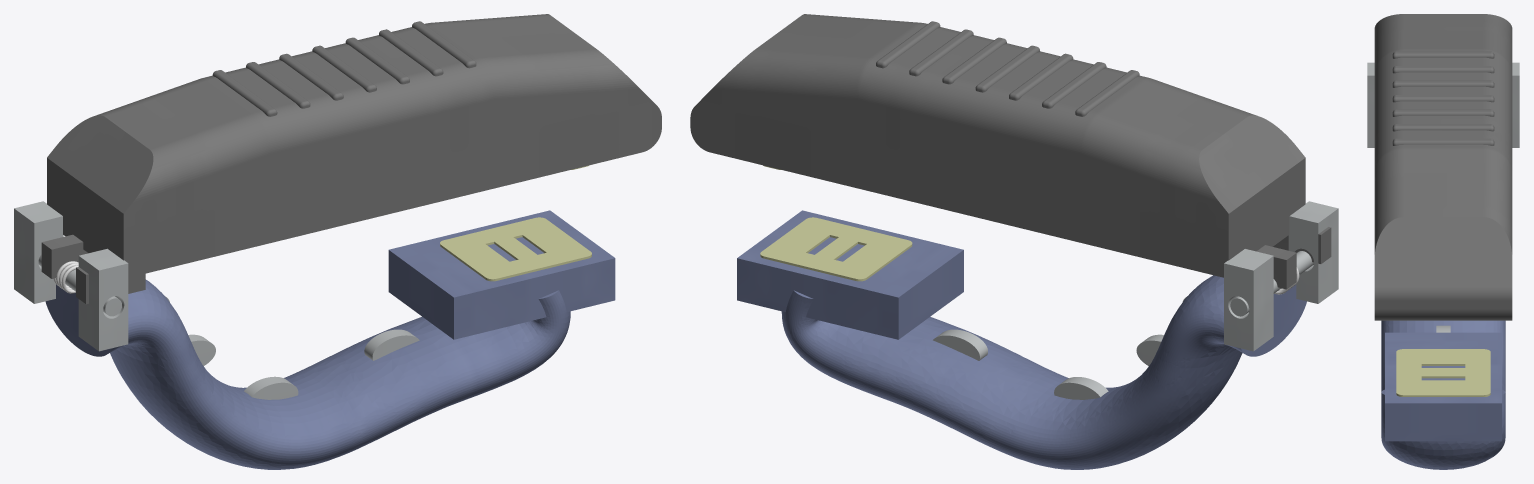
File: Handtools_Stapler__0215.glb
The picture shows the model from 3 angles, left to right: view 1: azimuth 30°, elevation 25°; view 2: azimuth 150°, elevation 25°; view 3: azimuth 270°, elevation 25°; orthographic projection. The views are drawn at different scales.
Visible parts, largest first — view 1: top_arm::arm_shell, base::base_grip, base::hinge_knuckles, base::anvil_plate, base::grip_ridge_3, base::grip_ridge_2, top_arm::grip_rib_0, top_arm::grip_rib_3, top_arm::grip_rib_6, top_arm::grip_rib_2, top_arm::grip_rib_5, top_arm::grip_rib_4 (+1 smaller); view 2: top_arm::arm_shell, base::base_grip, base::hinge_knuckles, base::anvil_plate, base::grip_ridge_3, base::grip_ridge_2, top_arm::grip_rib_4, top_arm::grip_rib_5, top_arm::grip_rib_1, top_arm::grip_rib_3, top_arm::grip_rib_2, top_arm::grip_rib_6 (+2 smaller); view 3: top_arm::arm_shell, base::base_grip, base::anvil_plate, base::hinge_knuckles, top_arm::grip_rib_2, top_arm::grip_rib_4, top_arm::grip_rib_6, top_arm::grip_rib_0, top_arm::grip_rib_1, top_arm::grip_rib_3, top_arm::grip_rib_5.
Boxes of the visible parts, left/top/right/bottom form: top_arm::arm_shell: left=41, top=14, right=661, bottom=304; base::base_grip: left=45, top=210, right=615, bottom=469; base::hinge_knuckles: left=14, top=201, right=128, bottom=351; base::anvil_plate: left=440, top=217, right=591, bottom=281; base::grip_ridge_3: left=364, top=329, right=419, bottom=360; base::grip_ridge_2: left=244, top=376, right=298, bottom=399; top_arm::grip_rib_0: left=212, top=70, right=277, bottom=116; top_arm::grip_rib_3: left=312, top=45, right=376, bottom=92; top_arm::grip_rib_6: left=412, top=21, right=476, bottom=68; top_arm::grip_rib_2: left=279, top=53, right=343, bottom=100; top_arm::grip_rib_5: left=379, top=29, right=443, bottom=76; top_arm::grip_rib_4: left=345, top=37, right=409, bottom=84; top_arm::arm_shell: left=690, top=14, right=1331, bottom=289; base::base_grip: left=737, top=210, right=1306, bottom=469; base::hinge_knuckles: left=1224, top=201, right=1338, bottom=351; base::anvil_plate: left=760, top=217, right=912, bottom=281; base::grip_ridge_3: left=933, top=329, right=987, bottom=360; base::grip_ridge_2: left=1054, top=377, right=1108, bottom=399; top_arm::grip_rib_4: left=942, top=37, right=1006, bottom=84; top_arm::grip_rib_5: left=909, top=29, right=973, bottom=76; top_arm::grip_rib_1: left=1042, top=62, right=1106, bottom=108; top_arm::grip_rib_3: left=975, top=45, right=1039, bottom=92; top_arm::grip_rib_2: left=1009, top=53, right=1073, bottom=100; top_arm::grip_rib_6: left=876, top=21, right=940, bottom=68; top_arm::arm_shell: left=1374, top=14, right=1512, bottom=320; base::base_grip: left=1381, top=320, right=1505, bottom=469; base::anvil_plate: left=1396, top=349, right=1490, bottom=396; base::hinge_knuckles: left=1367, top=62, right=1519, bottom=147; top_arm::grip_rib_2: left=1392, top=80, right=1494, bottom=87; top_arm::grip_rib_4: left=1392, top=109, right=1494, bottom=116; top_arm::grip_rib_6: left=1392, top=138, right=1494, bottom=145; top_arm::grip_rib_0: left=1392, top=51, right=1494, bottom=58; top_arm::grip_rib_1: left=1392, top=66, right=1494, bottom=73; top_arm::grip_rib_3: left=1392, top=95, right=1494, bottom=102; top_arm::grip_rib_5: left=1392, top=124, right=1494, bottom=131.
Size of the model in its own units: 0.1623 by 0.1027 by 0.0419.
5 materials, 3 textured.
